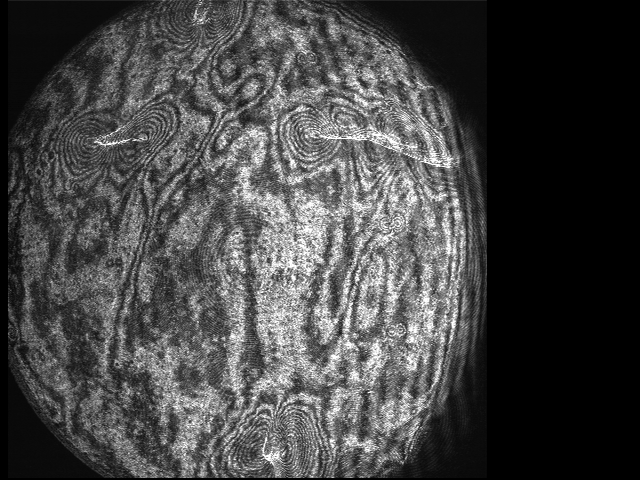plume: (218, 401, 327, 480), (61, 104, 178, 171), (279, 100, 369, 162), (162, 1, 246, 44)
